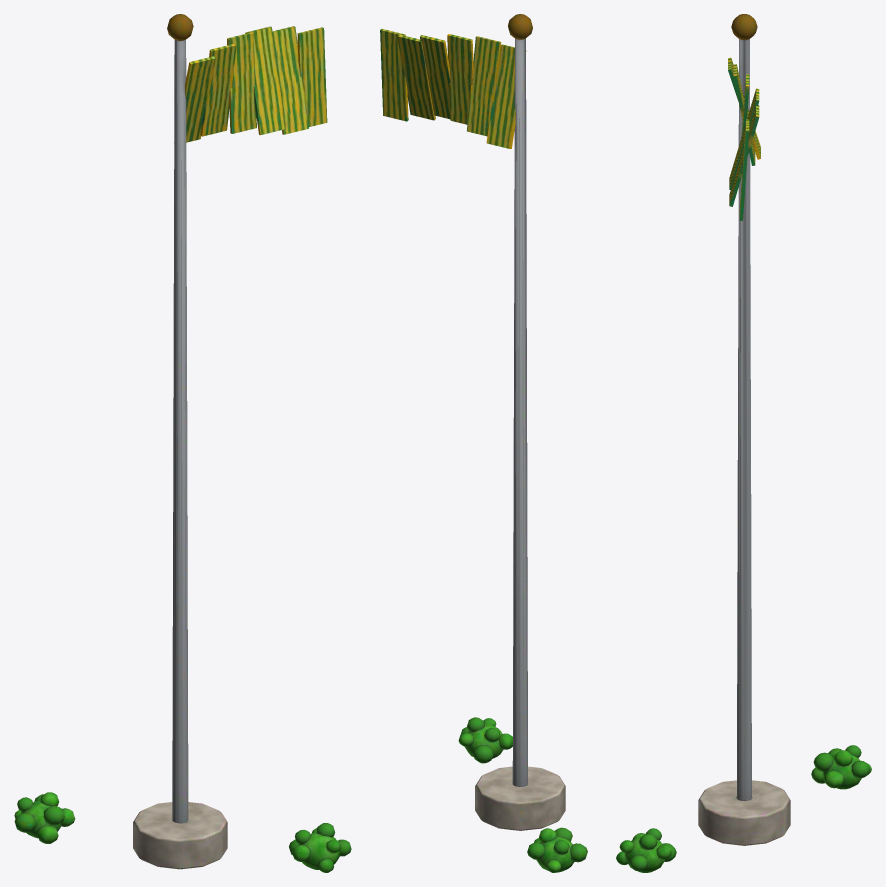
The model's file is flag_pole.glb.
3 views of the same model, side by side, from view 1: azimuth 30°, elevation 25°; view 2: azimuth 150°, elevation 25°; view 3: azimuth 270°, elevation 25° (orthographic). The views are drawn at different scales.
Parts seen in each view (by area): view 1: flag_pole, swayZ_flag; view 2: flag_pole, swayZ_flag; view 3: flag_pole, swayZ_flag.
Boxes of the visible parts, x1,y1,x2,y2 form: flag_pole: (14, 14, 351, 872); swayZ_flag: (185, 26, 327, 142); flag_pole: (458, 14, 587, 872); swayZ_flag: (380, 29, 526, 148); flag_pole: (616, 14, 871, 872); swayZ_flag: (728, 57, 760, 220).
Size of the model in its own units: 0.8914 by 2.72 by 0.7765.
Materials: 1 (1 with a texture image).
